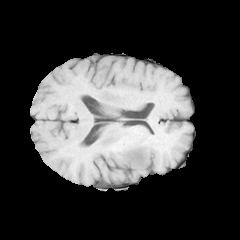glioma: (115, 143, 149, 169)
